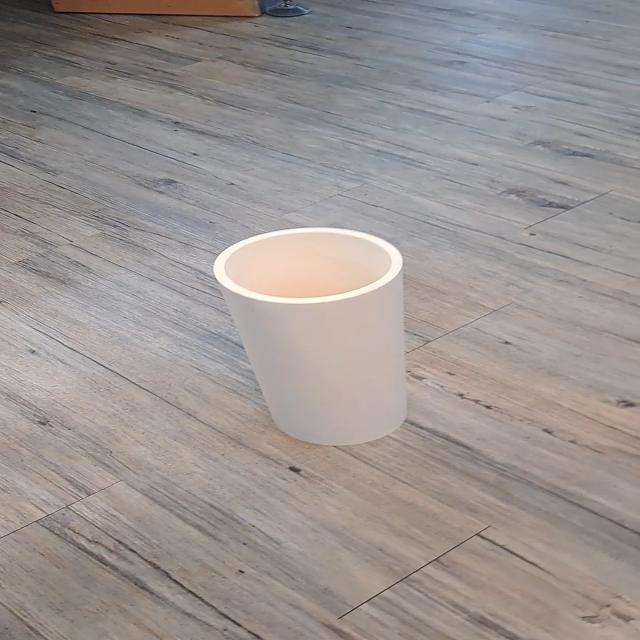CORAL: (184, 199, 473, 469)
